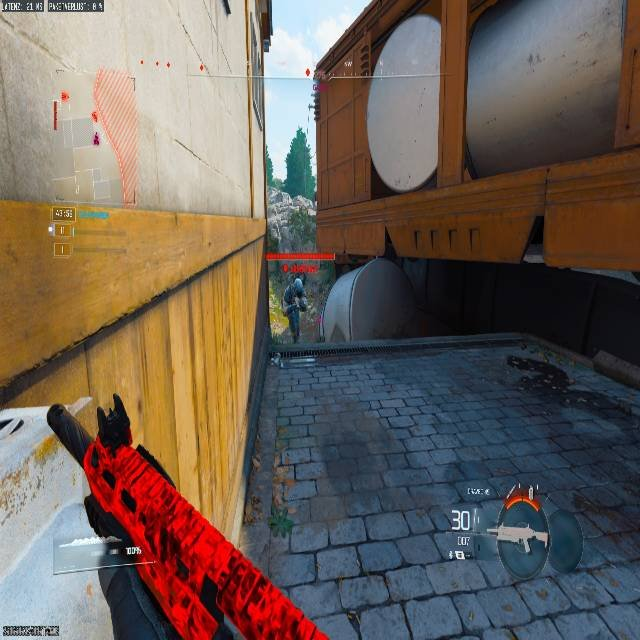head: (293, 277, 303, 287)
player: (283, 276, 308, 343)
